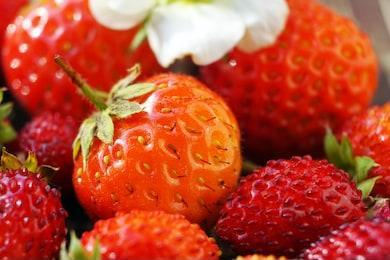Fresa: (67, 71, 245, 232), (212, 142, 373, 260)
